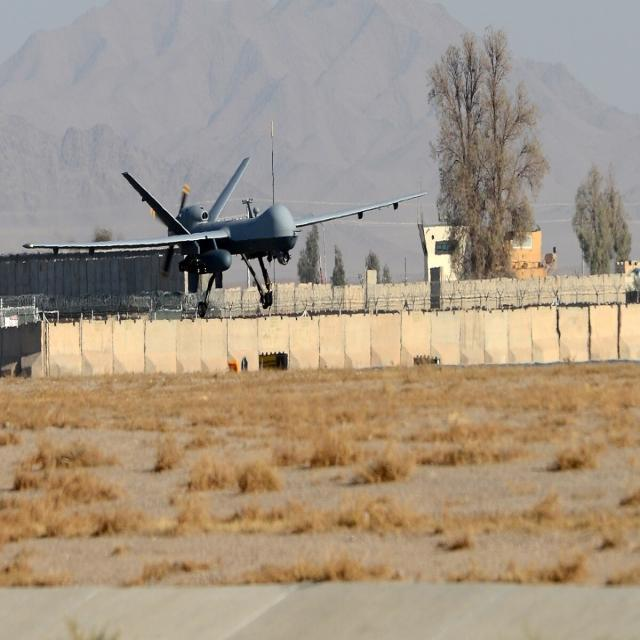MIL_Plane: (22, 156, 428, 318)
